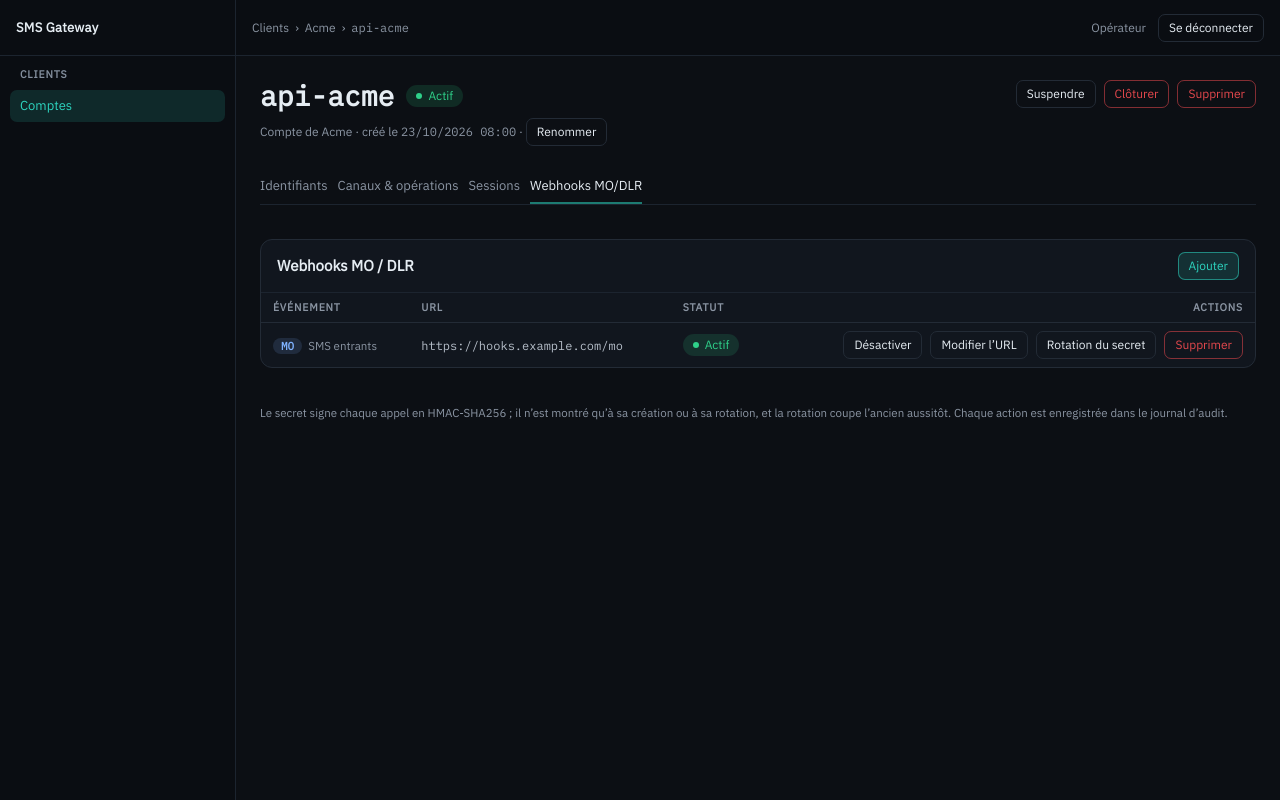
Scenario: an edit sends the URL alone and is told in a toast
This screenshot has width=1280, height=800.
Click the button "Modifier l’URL" at (979, 345), box top-left (930, 331), bottom-right (1028, 359)
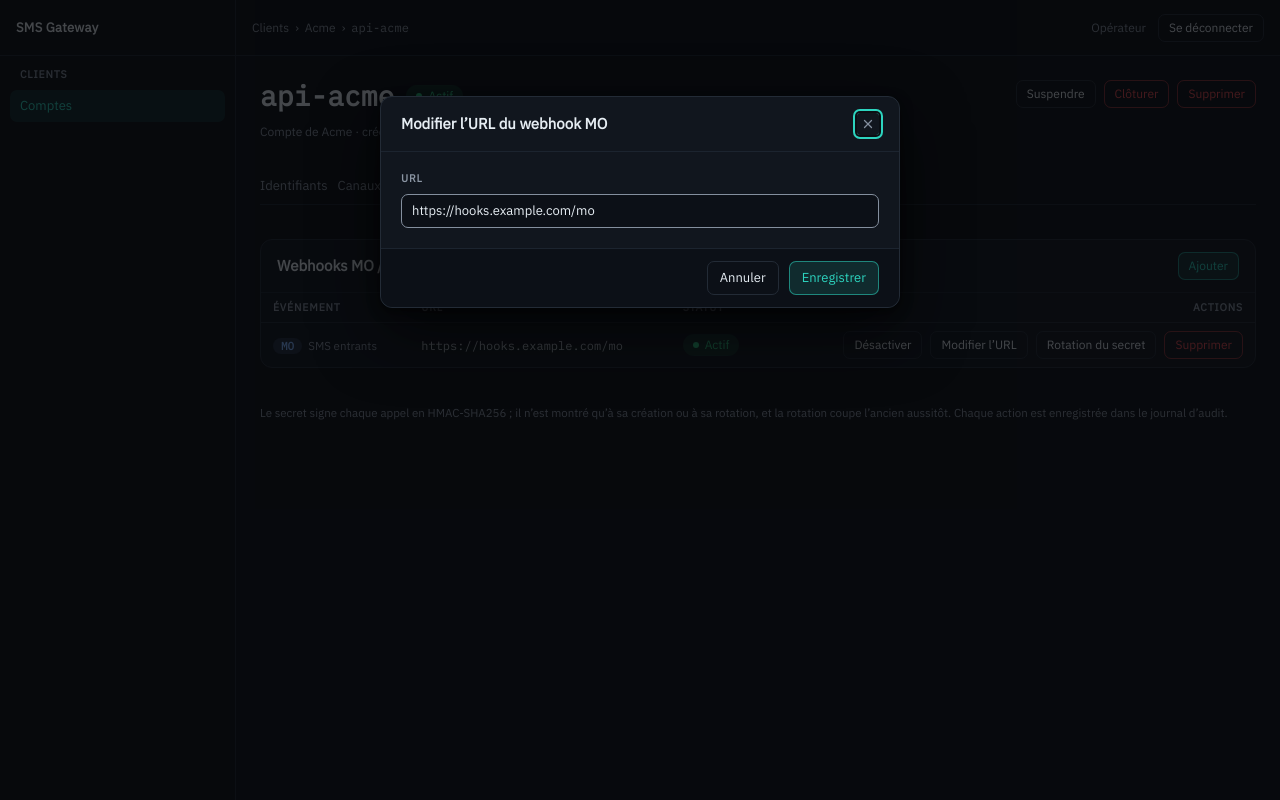
Replace the text in the field labelled "URL" with "https://hooks.example.com/v2" at (640, 211), box top-left (401, 194), bottom-right (879, 228)
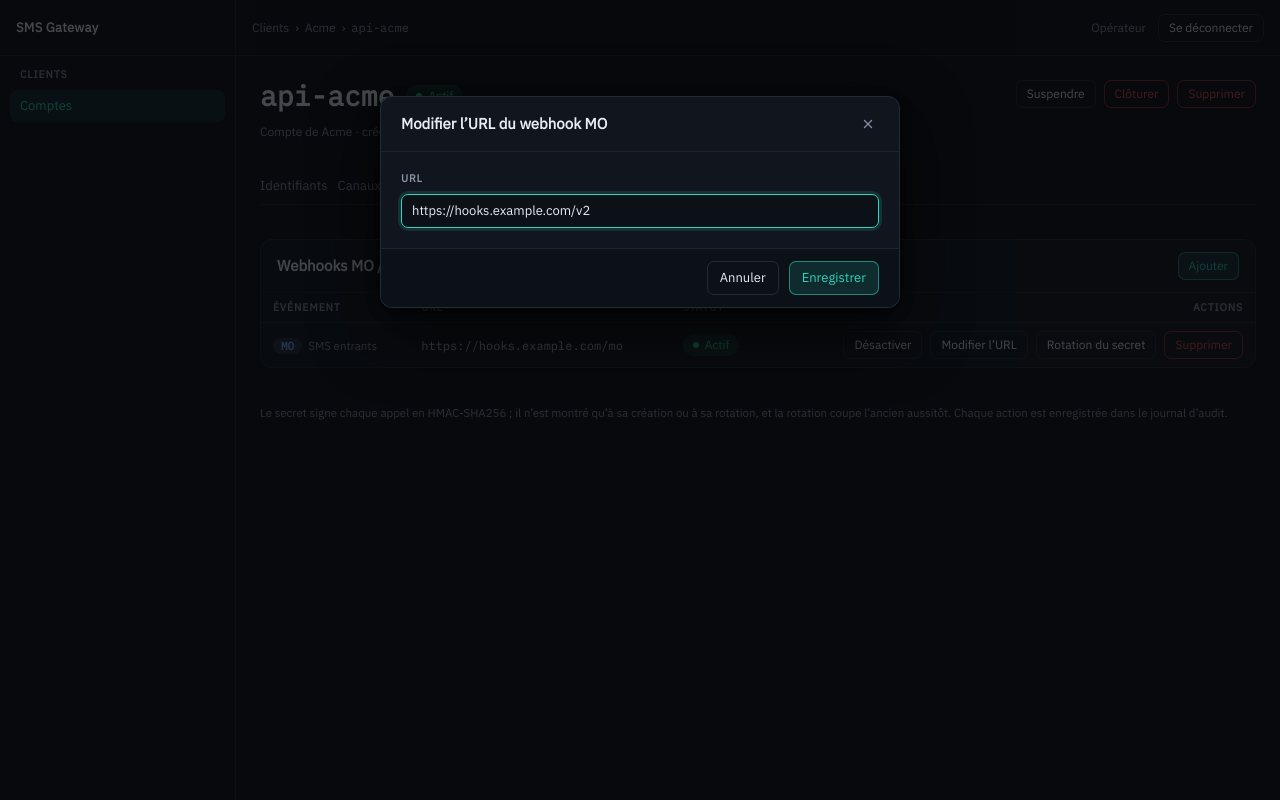
Click the button "Enregistrer" at (834, 278), box top-left (789, 261), bottom-right (879, 295)
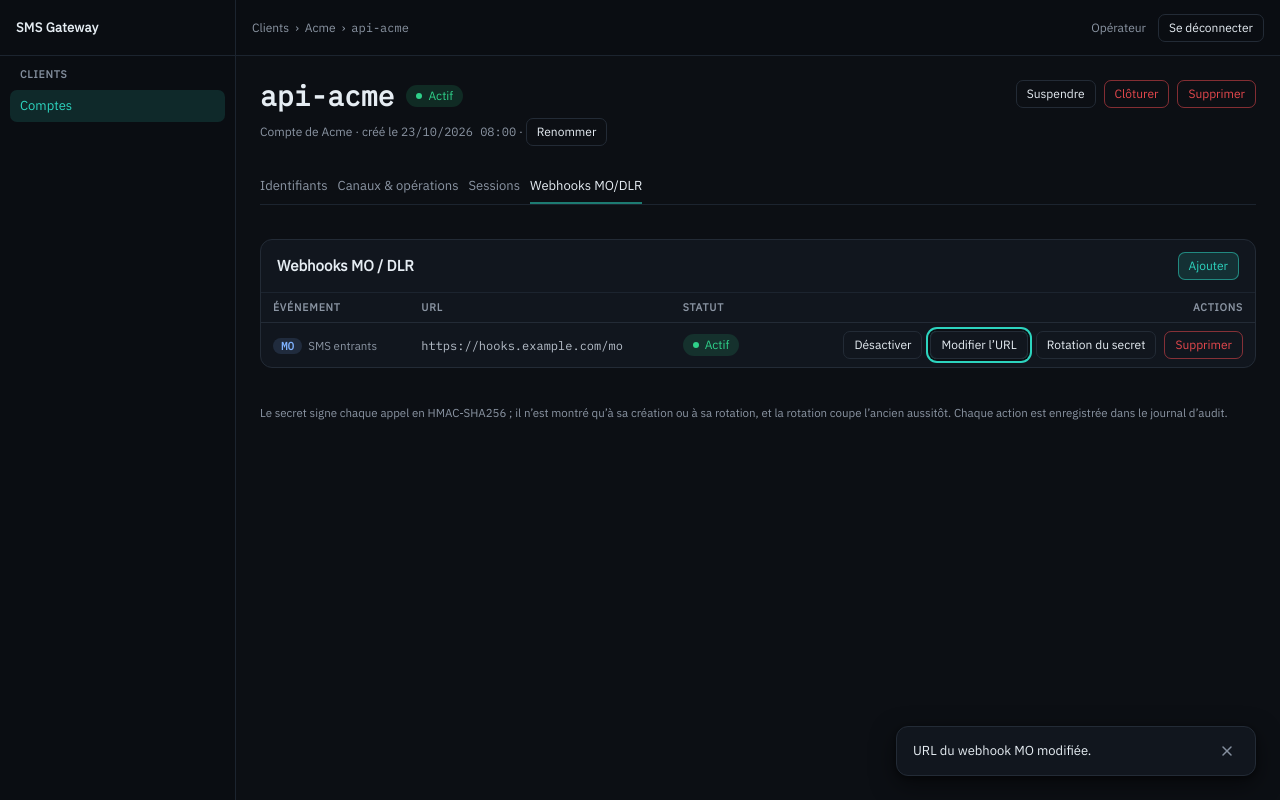
Expected: the element with class "ui-toast" is shown, top-left (896, 726), bottom-right (1256, 776)
Expected: the dialog is gone
